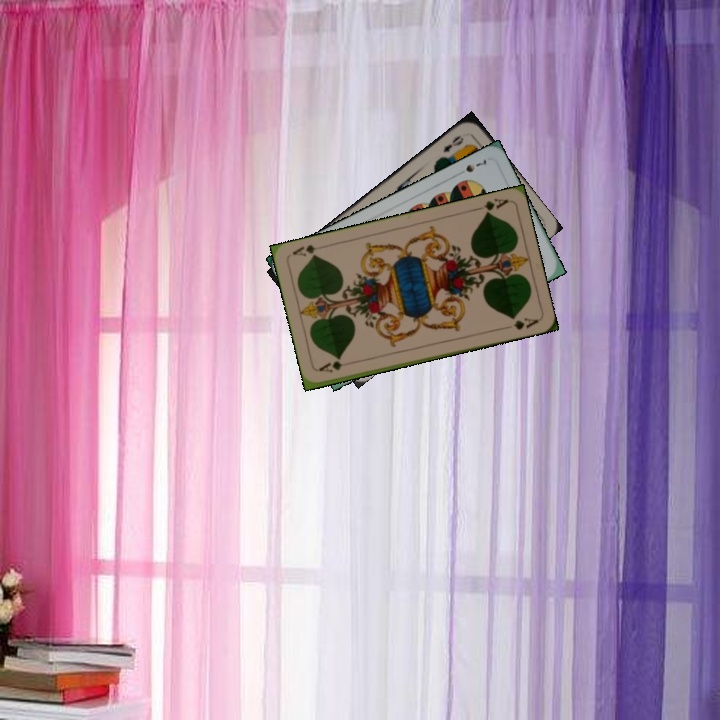EO: (439, 131, 466, 155)
GA: (471, 194, 511, 218), (315, 357, 356, 375)
S7: (452, 155, 489, 178)
